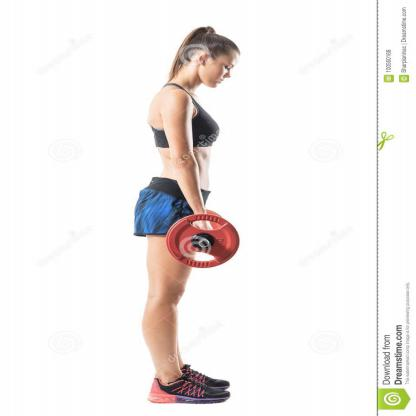Barbell: (158, 210, 244, 272)
